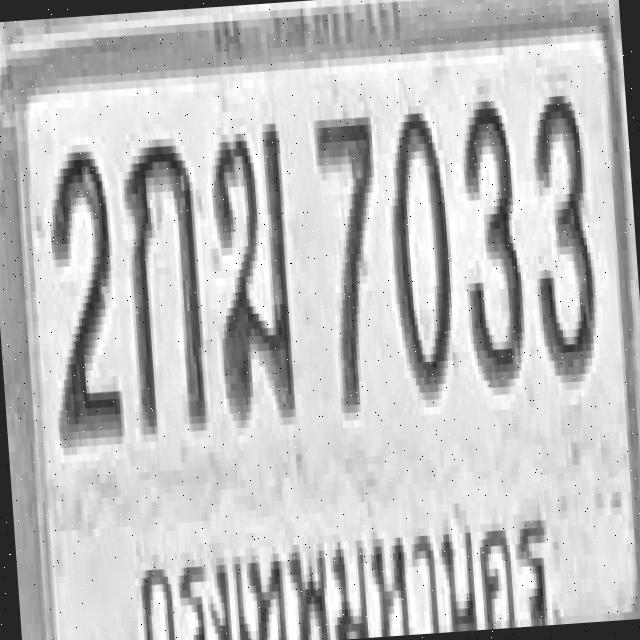0: (383, 100, 458, 398)
10GorGai: (120, 130, 209, 434)
15KhorRaKhang: (206, 120, 300, 424)
2: (40, 143, 124, 440)
3: (522, 83, 600, 380), (453, 92, 528, 388)
7: (312, 109, 390, 413)
Bangkok: (127, 508, 560, 640)
